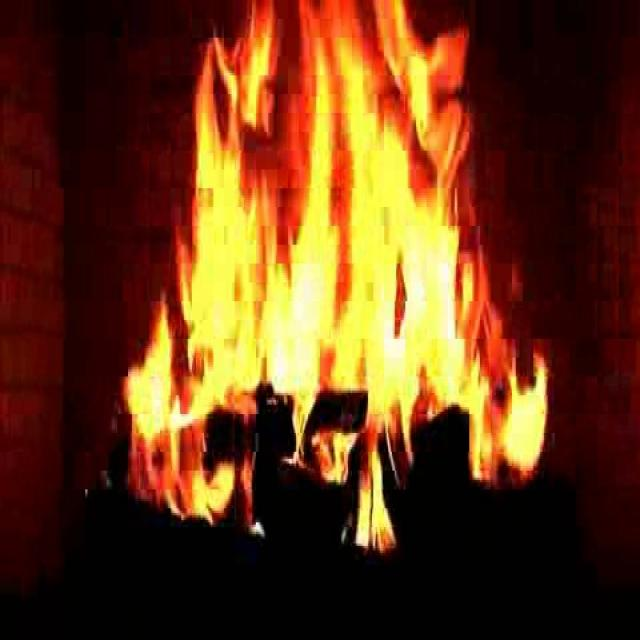fire: (177, 22, 530, 530)
